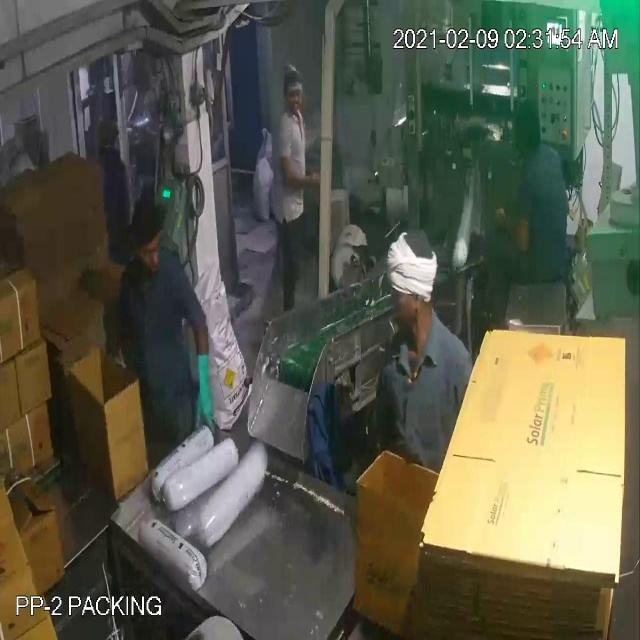Guantes: (179, 332, 220, 446)
Sin_guantes: (483, 187, 535, 260), (275, 148, 330, 202)
